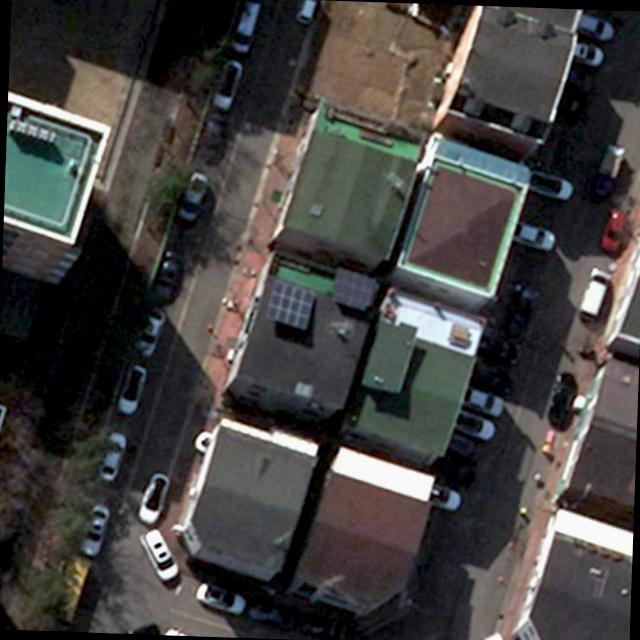solar: (266, 276, 320, 338), (329, 267, 380, 315)
